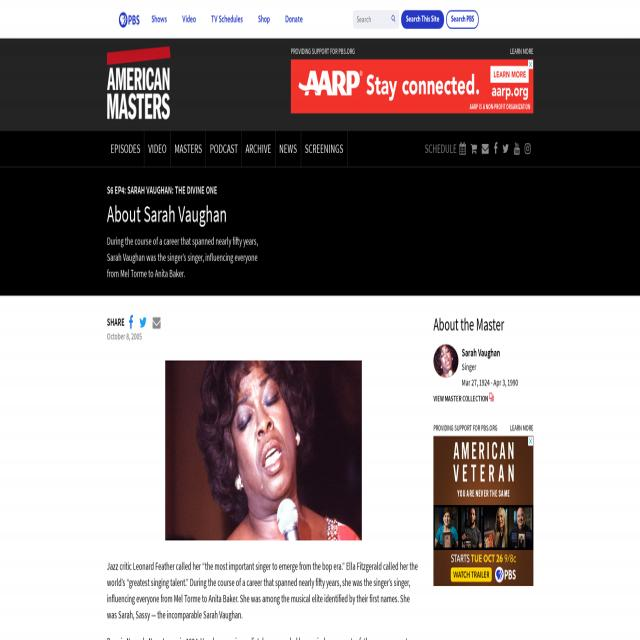button: (165, 360, 361, 540), (107, 46, 170, 120), (423, 130, 469, 166), (301, 130, 347, 166), (107, 130, 144, 166), (170, 130, 206, 166), (206, 130, 242, 166), (242, 130, 275, 166), (144, 130, 170, 166), (275, 130, 301, 166), (401, 10, 444, 29), (434, 345, 458, 378), (446, 10, 478, 29), (479, 130, 492, 166), (500, 130, 512, 166), (468, 130, 480, 166), (512, 130, 522, 166), (492, 130, 501, 166), (522, 130, 530, 166), (285, 14, 303, 24), (137, 315, 149, 330), (150, 315, 162, 330), (127, 315, 135, 330), (488, 392, 494, 402)
field: (353, 10, 399, 29)
